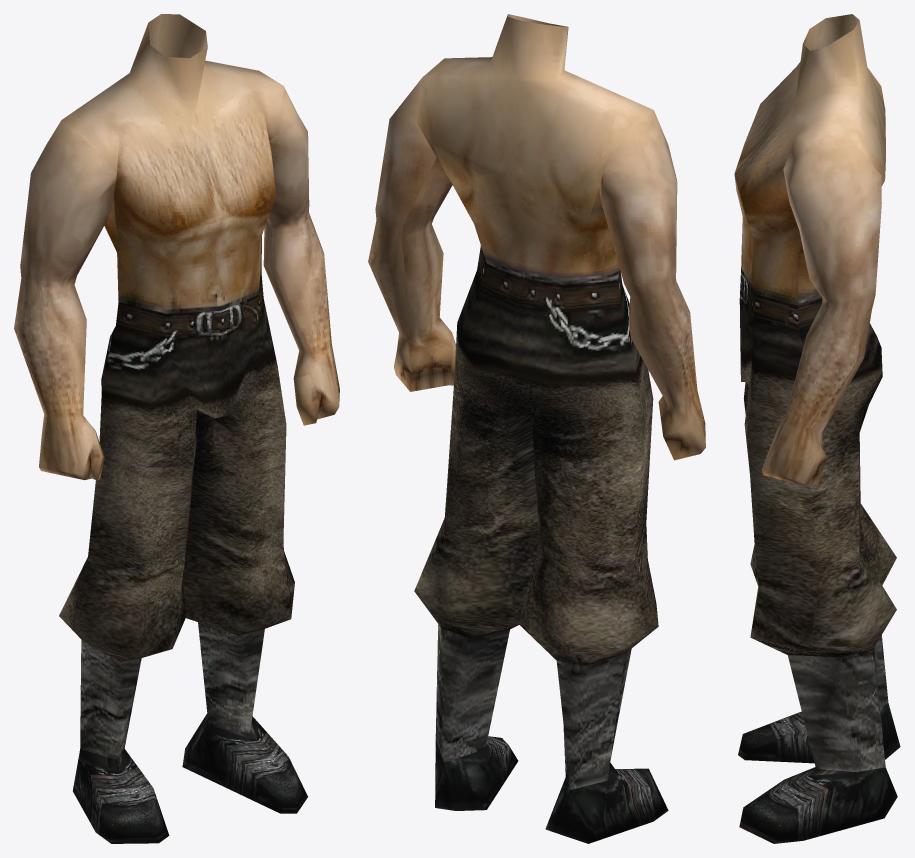
The model's file is KM_PANTS_01.glb.
3 views of the same model, side by side, from view 1: azimuth 30°, elevation 25°; view 2: azimuth 150°, elevation 25°; view 3: azimuth 270°, elevation 25° (orthographic). The views are drawn at different scales.
Visible parts, largest first — view 1: KM_PANTS_01; view 2: KM_PANTS_01; view 3: KM_PANTS_01.
Part boxes in pixels (bbox=[...]): KM_PANTS_01: bbox=[14, 14, 339, 843]; KM_PANTS_01: bbox=[368, 14, 705, 843]; KM_PANTS_01: bbox=[734, 14, 900, 843].
Bounding box in the file's own units: 0.6879 × 1.69 × 0.3299.
2 materials, 2 textured.
